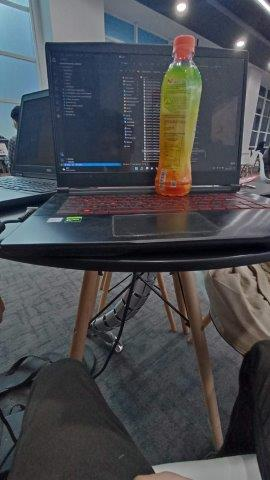botolplastik: (155, 36, 202, 197)
